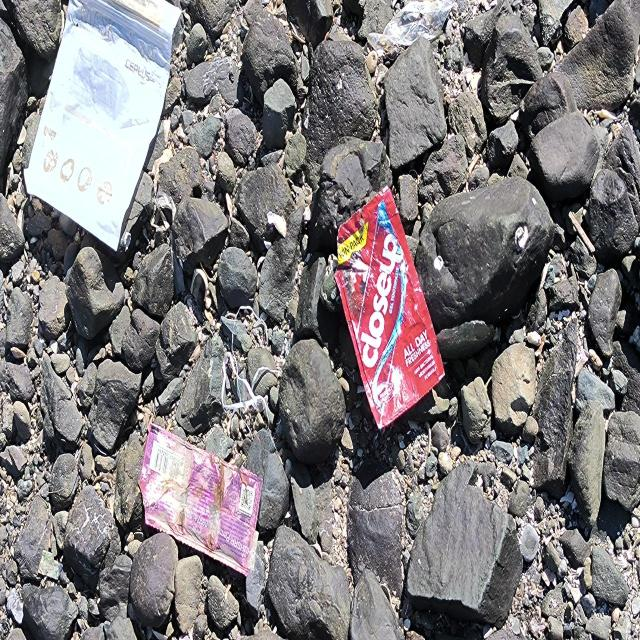plastic_waste: (27, 1, 184, 255), (336, 186, 447, 432), (139, 423, 265, 579)
